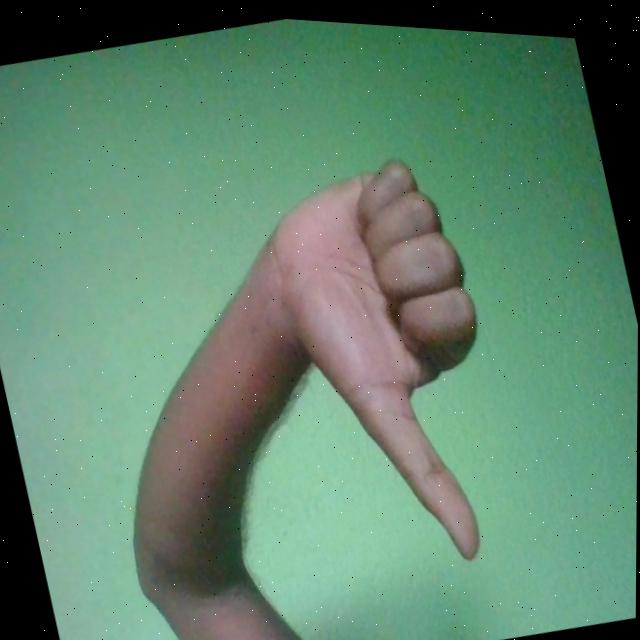Dislike: (249, 131, 530, 586)
